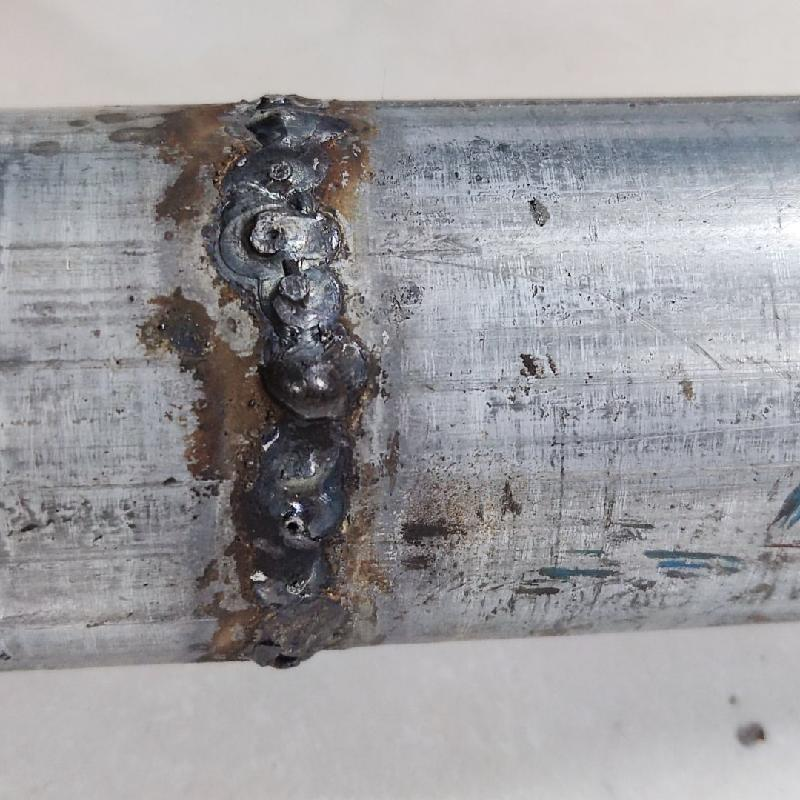Not_fully_soldered: (248, 553, 346, 648)
Surface_pores: (268, 510, 313, 541)
Weld: (245, 333, 358, 422), (255, 434, 342, 548)
wrong_size: (234, 95, 353, 330)
